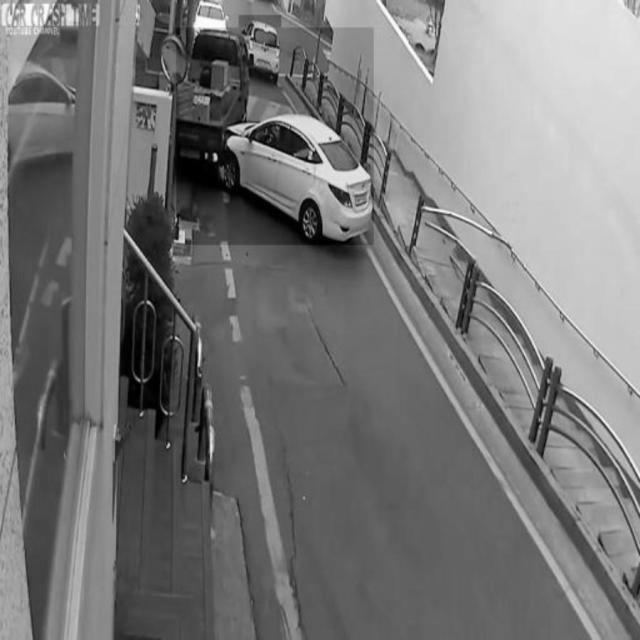accident: (177, 27, 374, 245)
vehicle: (240, 15, 282, 83)
